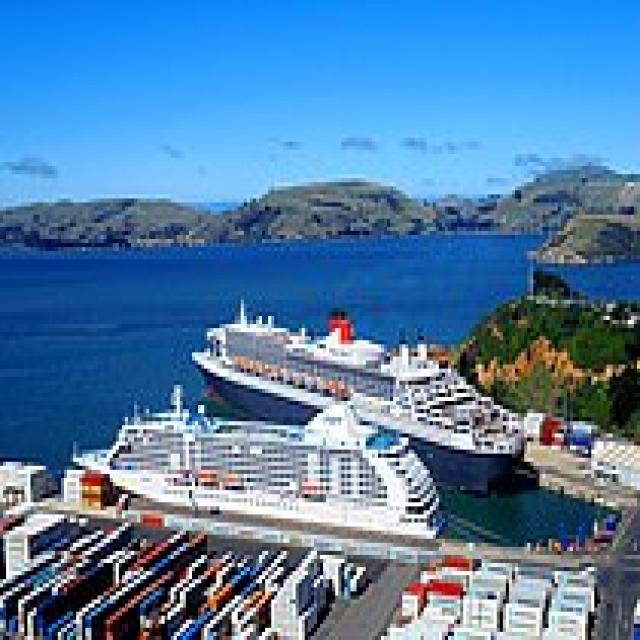Cruise: (186, 288, 527, 498), (67, 372, 448, 542)
